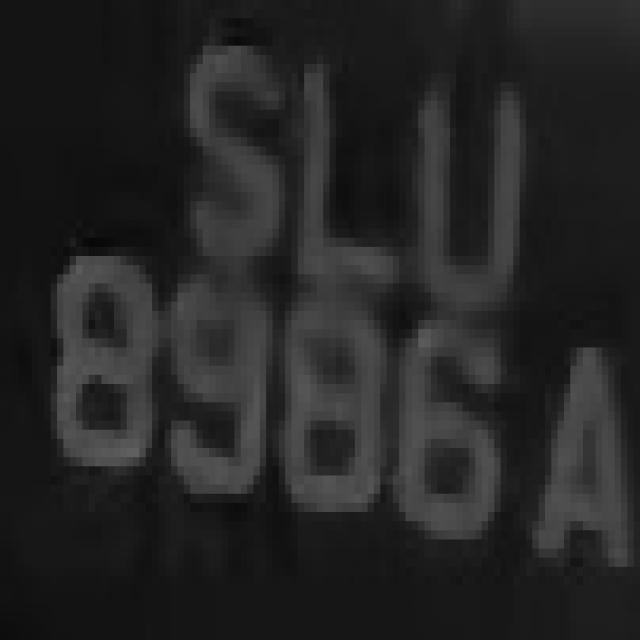6: (387, 265, 513, 576)
8: (38, 220, 158, 521), (279, 265, 386, 549)
9: (158, 265, 272, 549)
A: (526, 284, 634, 612)
L: (285, 64, 406, 311)
S: (165, 36, 279, 284)
U: (406, 37, 538, 320)
